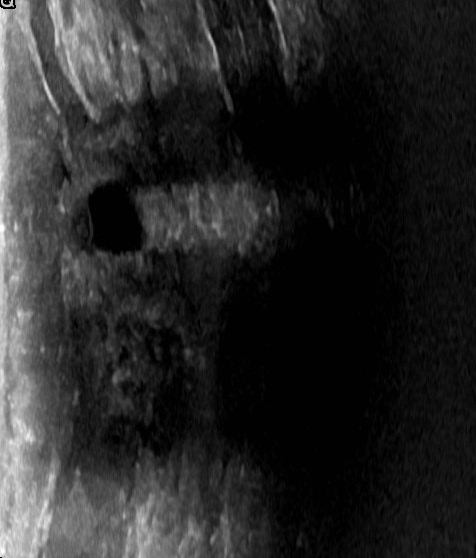Benign: (74, 181, 155, 262)
